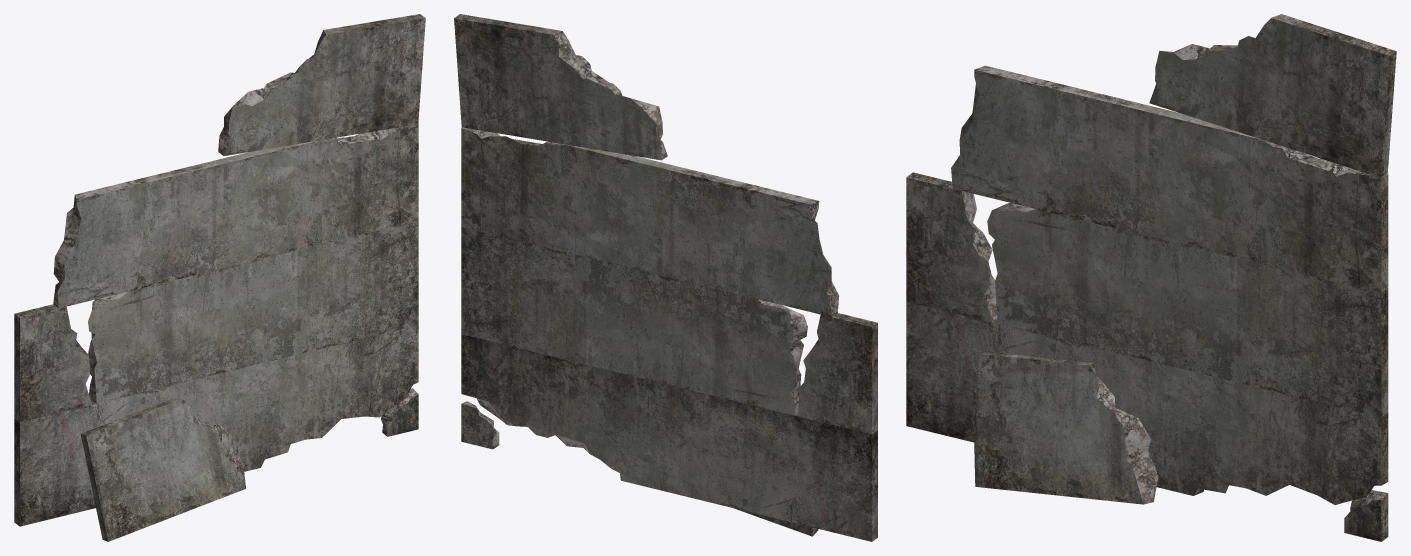
Rendered from Wall2D.fbx.
3 views of the same model, side by side, from view 1: azimuth 30°, elevation 25°; view 2: azimuth 150°, elevation 25°; view 3: azimuth 330°, elevation 25° (orthographic). The views are drawn at different scales.
Parts seen in each view (by area): view 1: polySurface55; view 2: polySurface55; view 3: polySurface55.
Part boxes in pixels (<box>): polySurface55: <box>14,14,425,541</box>; polySurface55: <box>454,14,877,541</box>; polySurface55: <box>906,14,1396,541</box>.
Bounding box in the file's own units: 4.07 × 4.23 × 0.3639.
